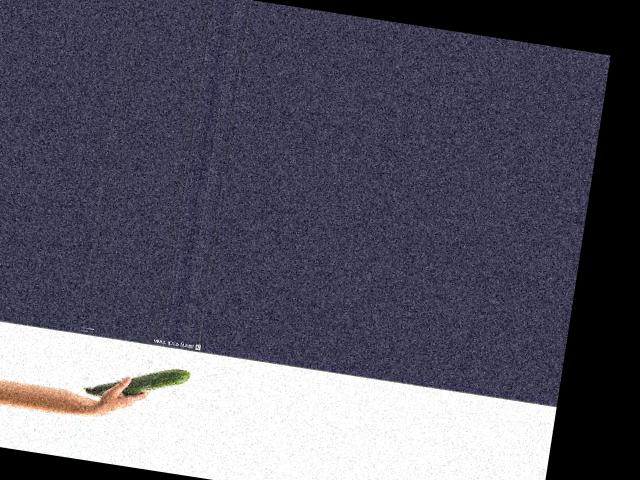cucumber: (81, 354, 191, 410)
